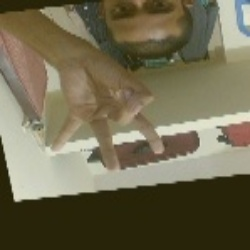hand: (46, 59, 164, 170)
